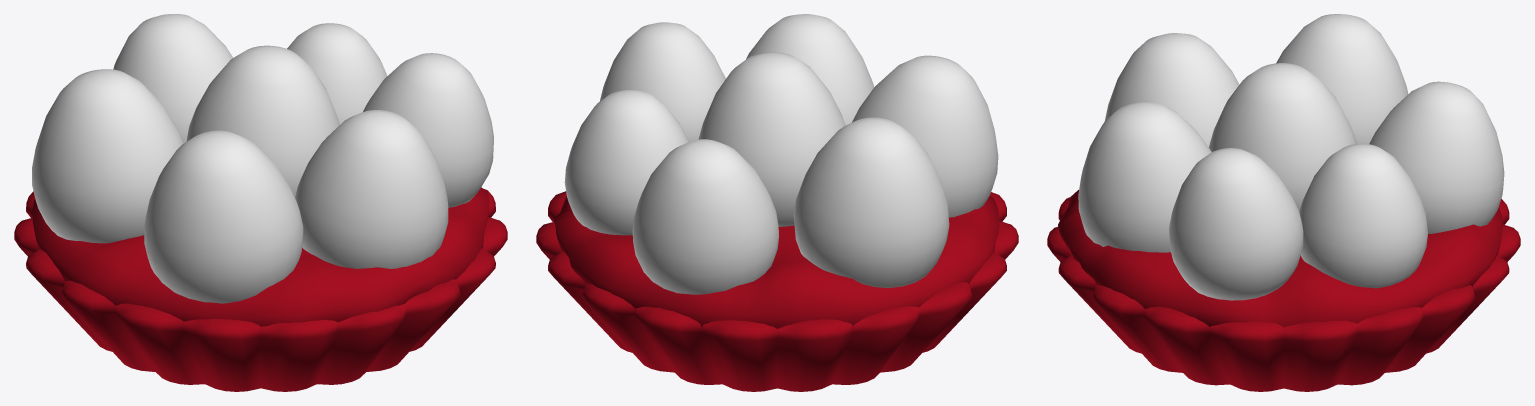
The model's file is RaspberryPie1.fbx.
The picture shows the model from 3 angles, left to right: view 1: azimuth 30°, elevation 25°; view 2: azimuth 150°, elevation 25°; view 3: azimuth 270°, elevation 25°; orthographic projection. The views are drawn at different scales.
Visible parts, largest first — view 1: RaspberryPie; view 2: RaspberryPie; view 3: RaspberryPie.
Part boxes in pixels (x1=…): RaspberryPie: x1=14, y1=14, x2=507, y2=391; RaspberryPie: x1=536, y1=14, x2=1018, y2=391; RaspberryPie: x1=1047, y1=14, x2=1520, y2=391.
Size of the model in its own units: 8.98 by 5.41 by 9.07.
